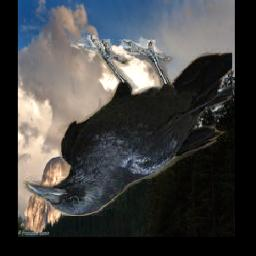Crow: (24, 35, 233, 216)
